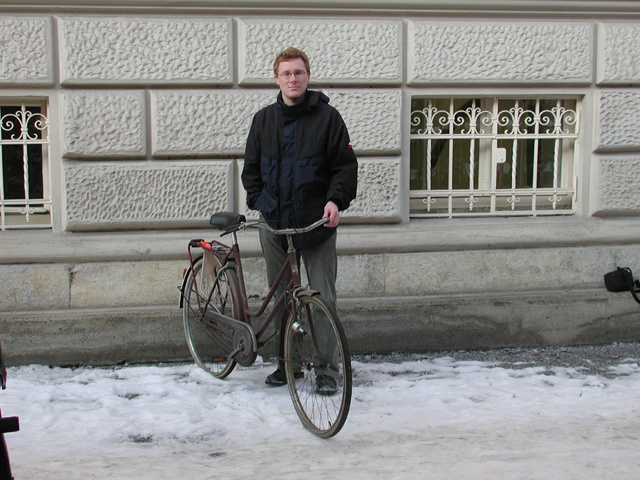person: (243, 47, 361, 397)
